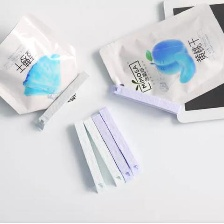snack: (92, 0, 224, 117), (0, 9, 84, 122)
